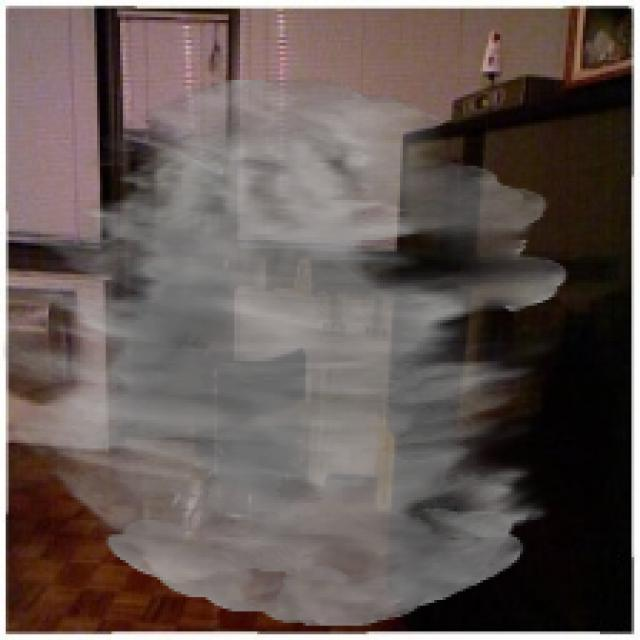Smoke: (2, 77, 568, 626)
